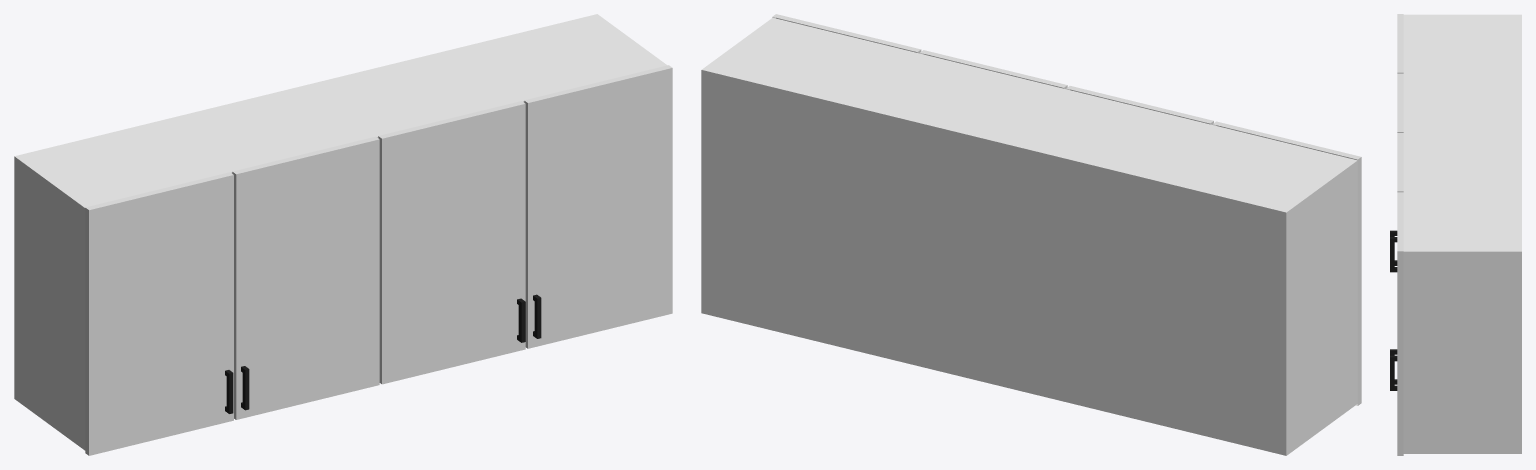
The model's file is kitchen_item_025.glb.
The picture shows the model from 3 angles, left to right: view 1: azimuth 30°, elevation 25°; view 2: azimuth 150°, elevation 25°; view 3: azimuth 270°, elevation 25°; orthographic projection. The views are drawn at different scales.
Visible parts, largest first — view 1: kitchen_item_025; view 2: kitchen_item_025; view 3: kitchen_item_025.
Part boxes in pixels (x1,y1,x2,y2): kitchen_item_025: (14,14,672,455); kitchen_item_025: (701,14,1361,455); kitchen_item_025: (1390,14,1521,455).
Bounding box in the file's own units: 2.2 × 0.8859 × 0.5174.
1 material, 1 textured.
